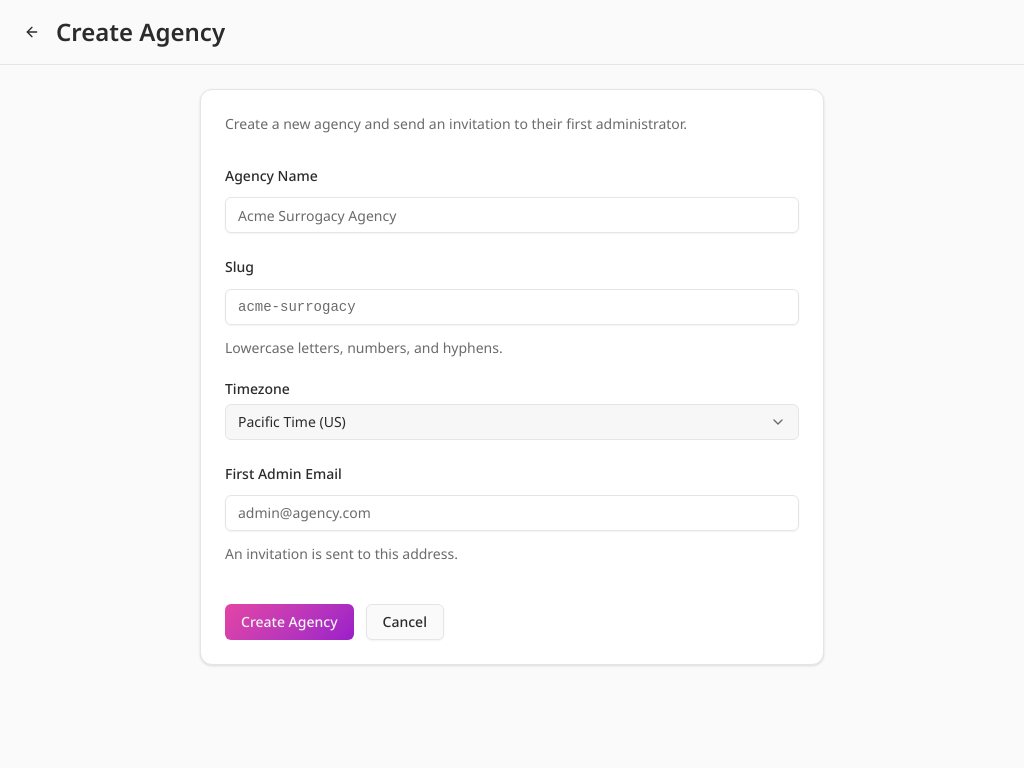
Test: NewAgencyPage validation › attaches a duplicate slug response to the slug field
The width and height of the screenshot is (1024, 768).
Type "QA Ops" into the field labelled "Agency Name" at (512, 215), box x1=225 y1=197 x2=799 y2=233
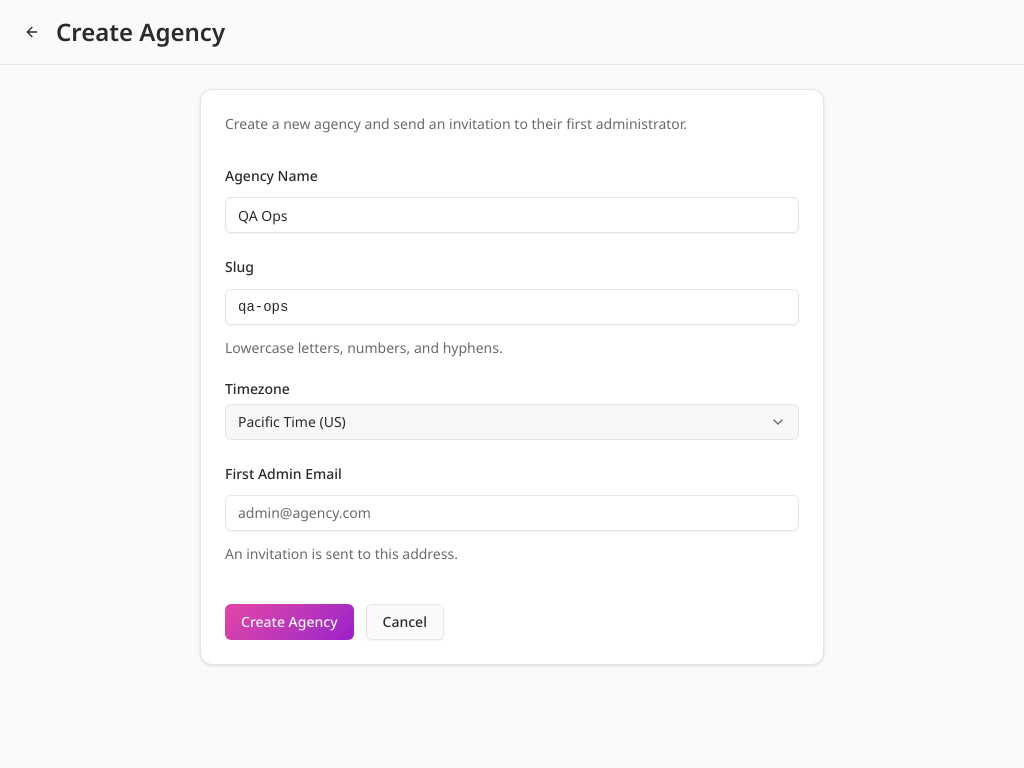
Type "admin@example.com" into the field labelled "First Admin Email" at (512, 513), box x1=225 y1=495 x2=799 y2=531
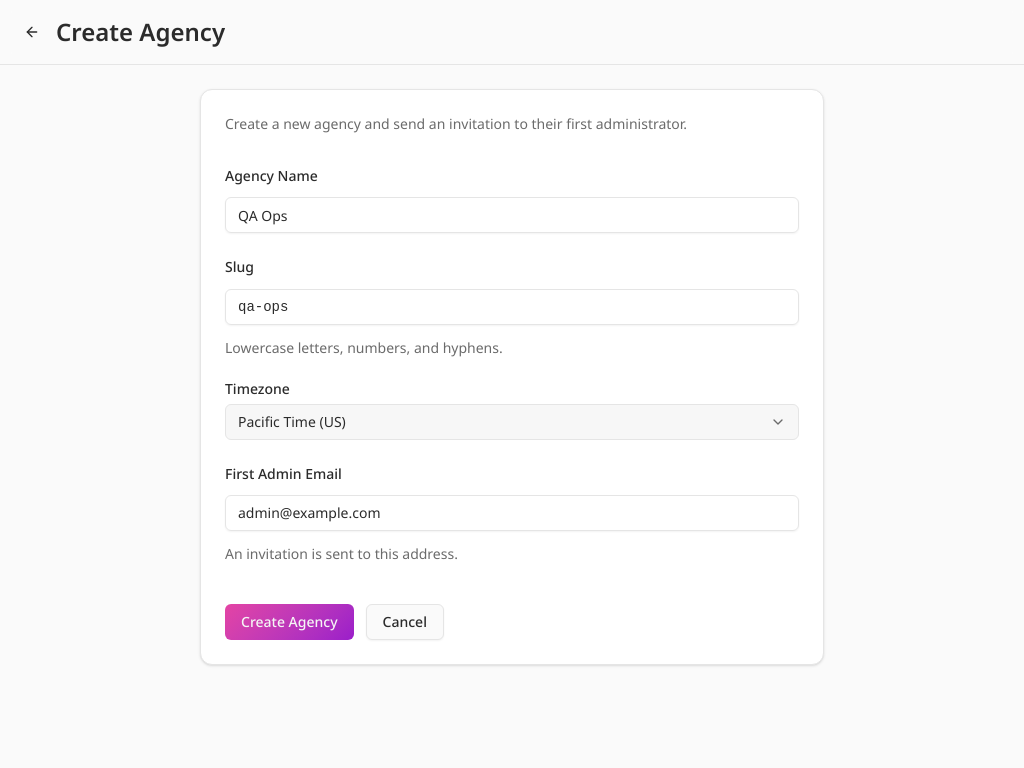
Click the button "Create Agency" at (289, 622), box x1=225 y1=604 x2=354 y2=640
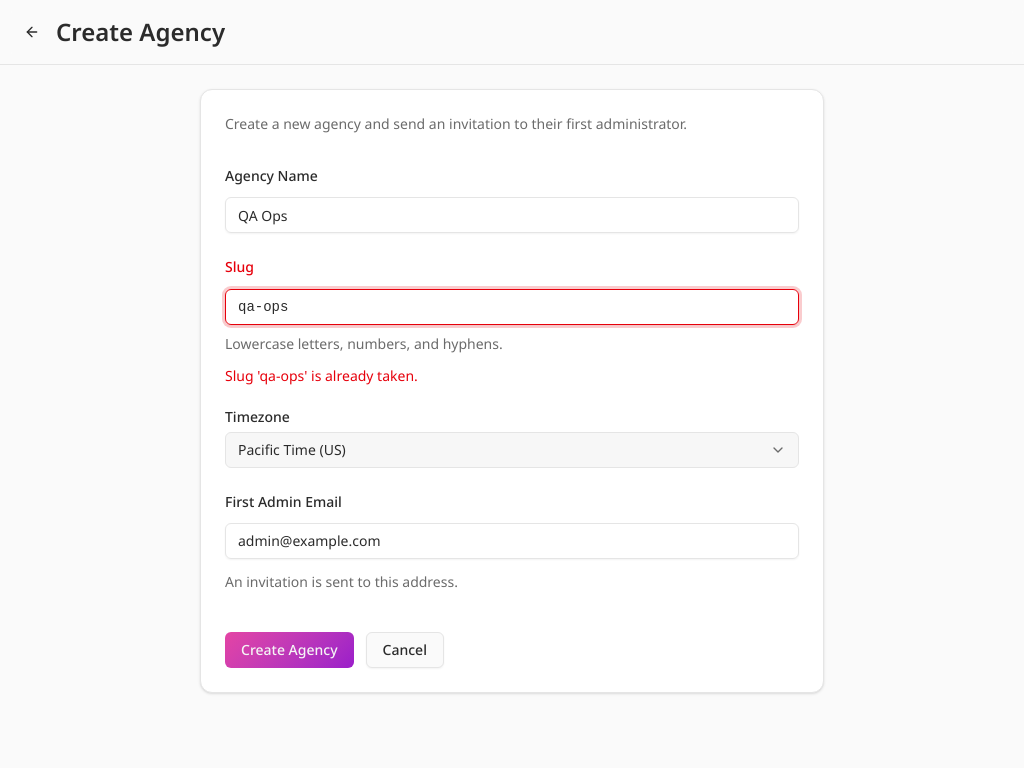
expect the text "Slug 'qa-ops' is already taken." is shown: met, box x1=225 y1=366 x2=418 y2=384
